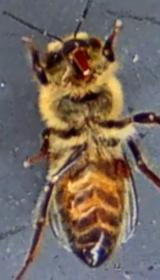varroa_mite: (102, 149, 137, 180)
